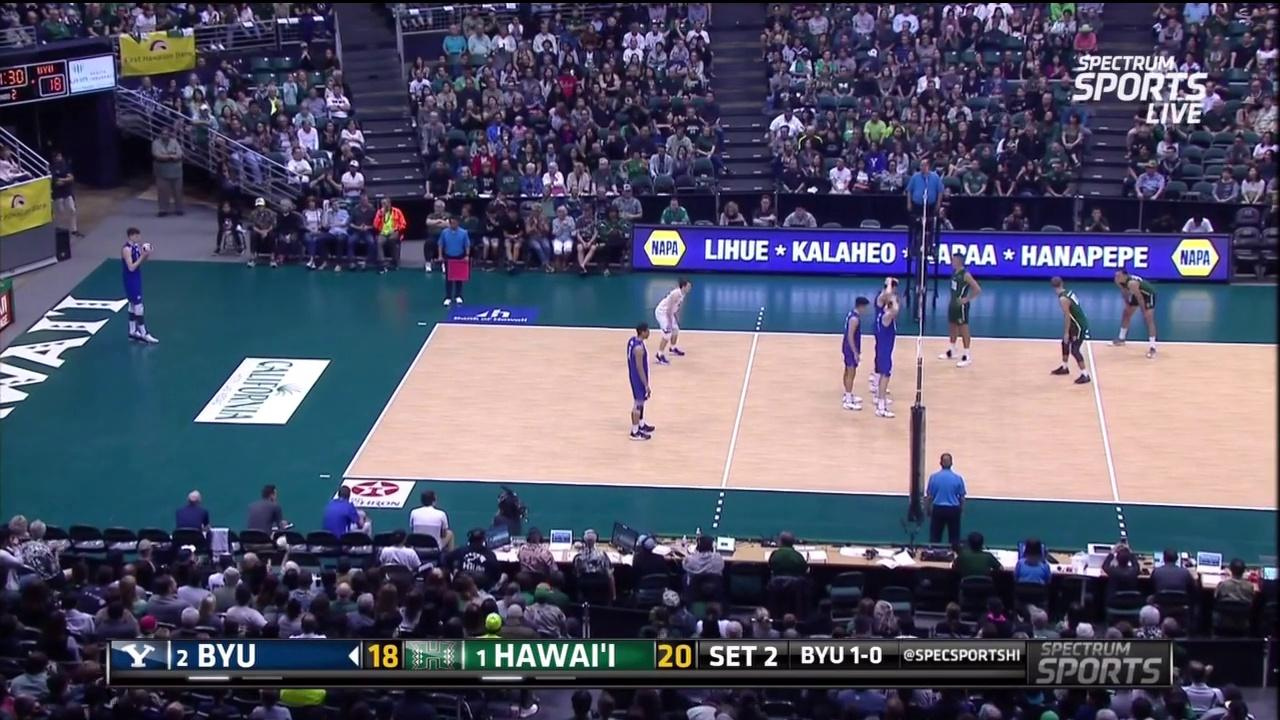player: (1052, 275, 1098, 385), (940, 252, 982, 369), (123, 227, 164, 344), (622, 323, 658, 441), (1114, 269, 1160, 359), (838, 295, 873, 413), (869, 276, 897, 404), (875, 292, 902, 420), (654, 276, 690, 361)
refree: (923, 452, 969, 543), (905, 160, 943, 245), (440, 215, 472, 301)
